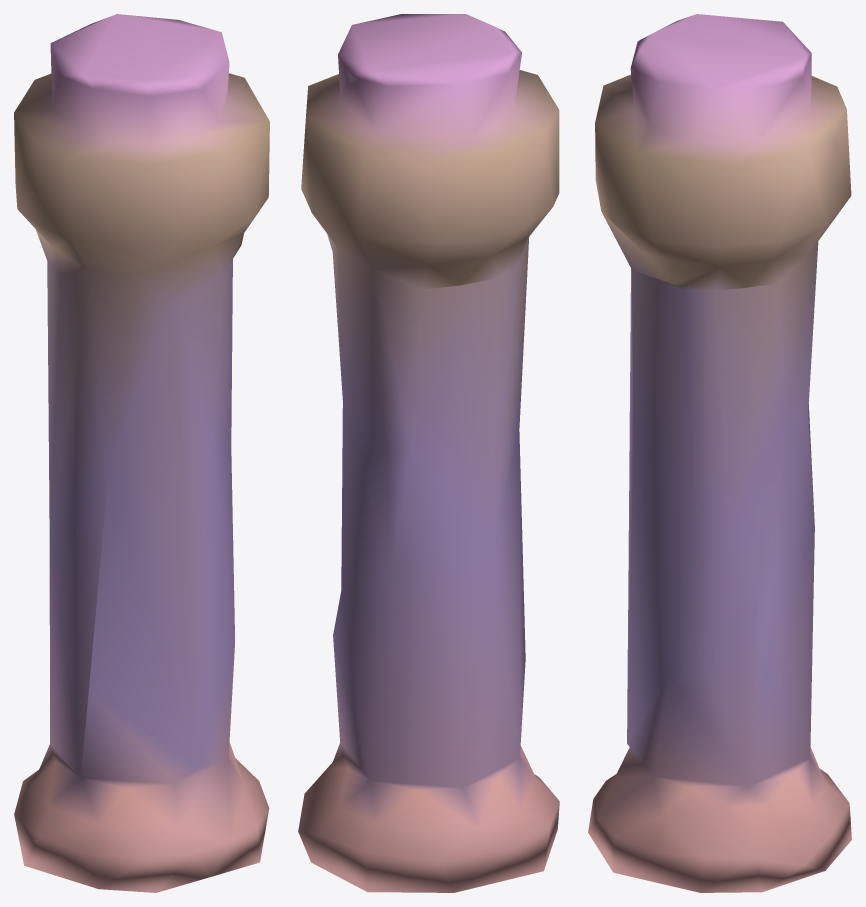
Rendered from MMarket_Potion_Magic_Sml.fbx.
3 renders of one model, left to right at view 1: azimuth 30°, elevation 25°; view 2: azimuth 150°, elevation 25°; view 3: azimuth 270°, elevation 25°, orthographic.
Parts seen in each view (by area): view 1: MMarket_Potion_Magic_Sml_LOD0; view 2: MMarket_Potion_Magic_Sml_LOD0; view 3: MMarket_Potion_Magic_Sml_LOD0.
Boxes of the visible parts, x1,y1,x2,y2 form: MMarket_Potion_Magic_Sml_LOD0: [14, 14, 269, 892]; MMarket_Potion_Magic_Sml_LOD0: [298, 14, 559, 892]; MMarket_Potion_Magic_Sml_LOD0: [588, 14, 851, 892].
Size of what is drawn, in the model's own units: 0.131 by 0.433 by 0.1304.
